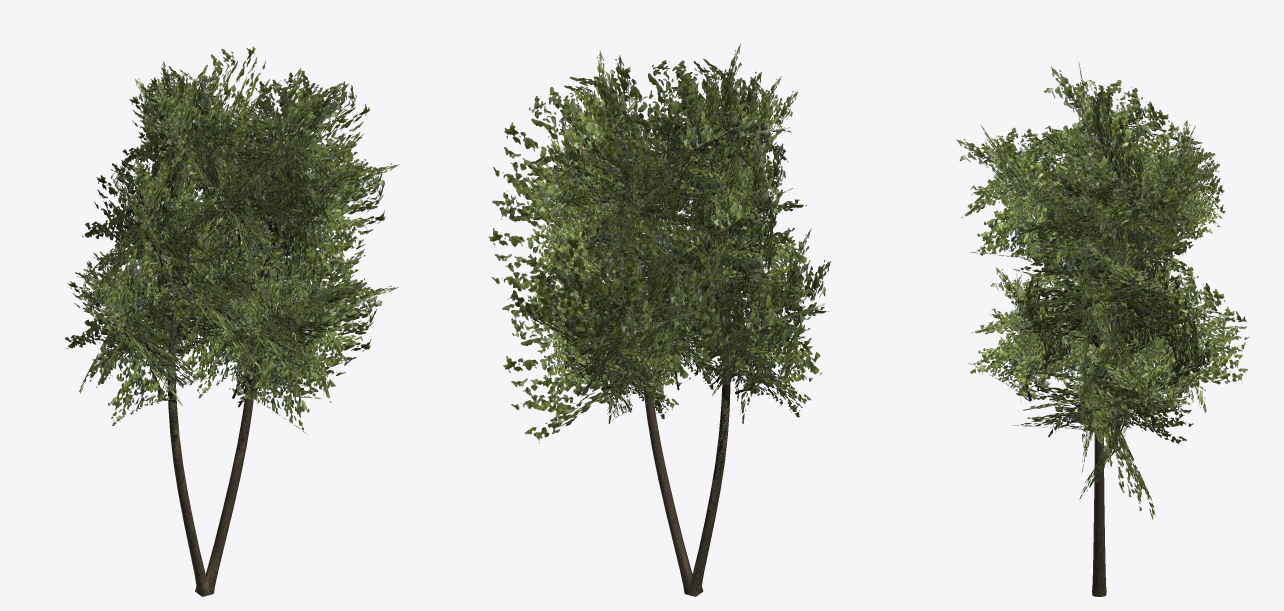
File: TreeA-2.fbx
The picture shows the model from 3 angles, left to right: view 1: azimuth 30°, elevation 25°; view 2: azimuth 150°, elevation 25°; view 3: azimuth 270°, elevation 25°; orthographic projection. The views are drawn at different scales.
Parts seen in each view (by area): view 1: TreeA_2.001; view 2: TreeA_2.001; view 3: TreeA_2.001.
Part boxes in pixels (x1,y1,x2,y2): TreeA_2.001: (65,46,399,596); TreeA_2.001: (488,43,830,596); TreeA_2.001: (956,61,1249,596).
Bounding box in the file's own units: 874 × 1243 × 747.
Materials: 2 (2 with a texture image).
